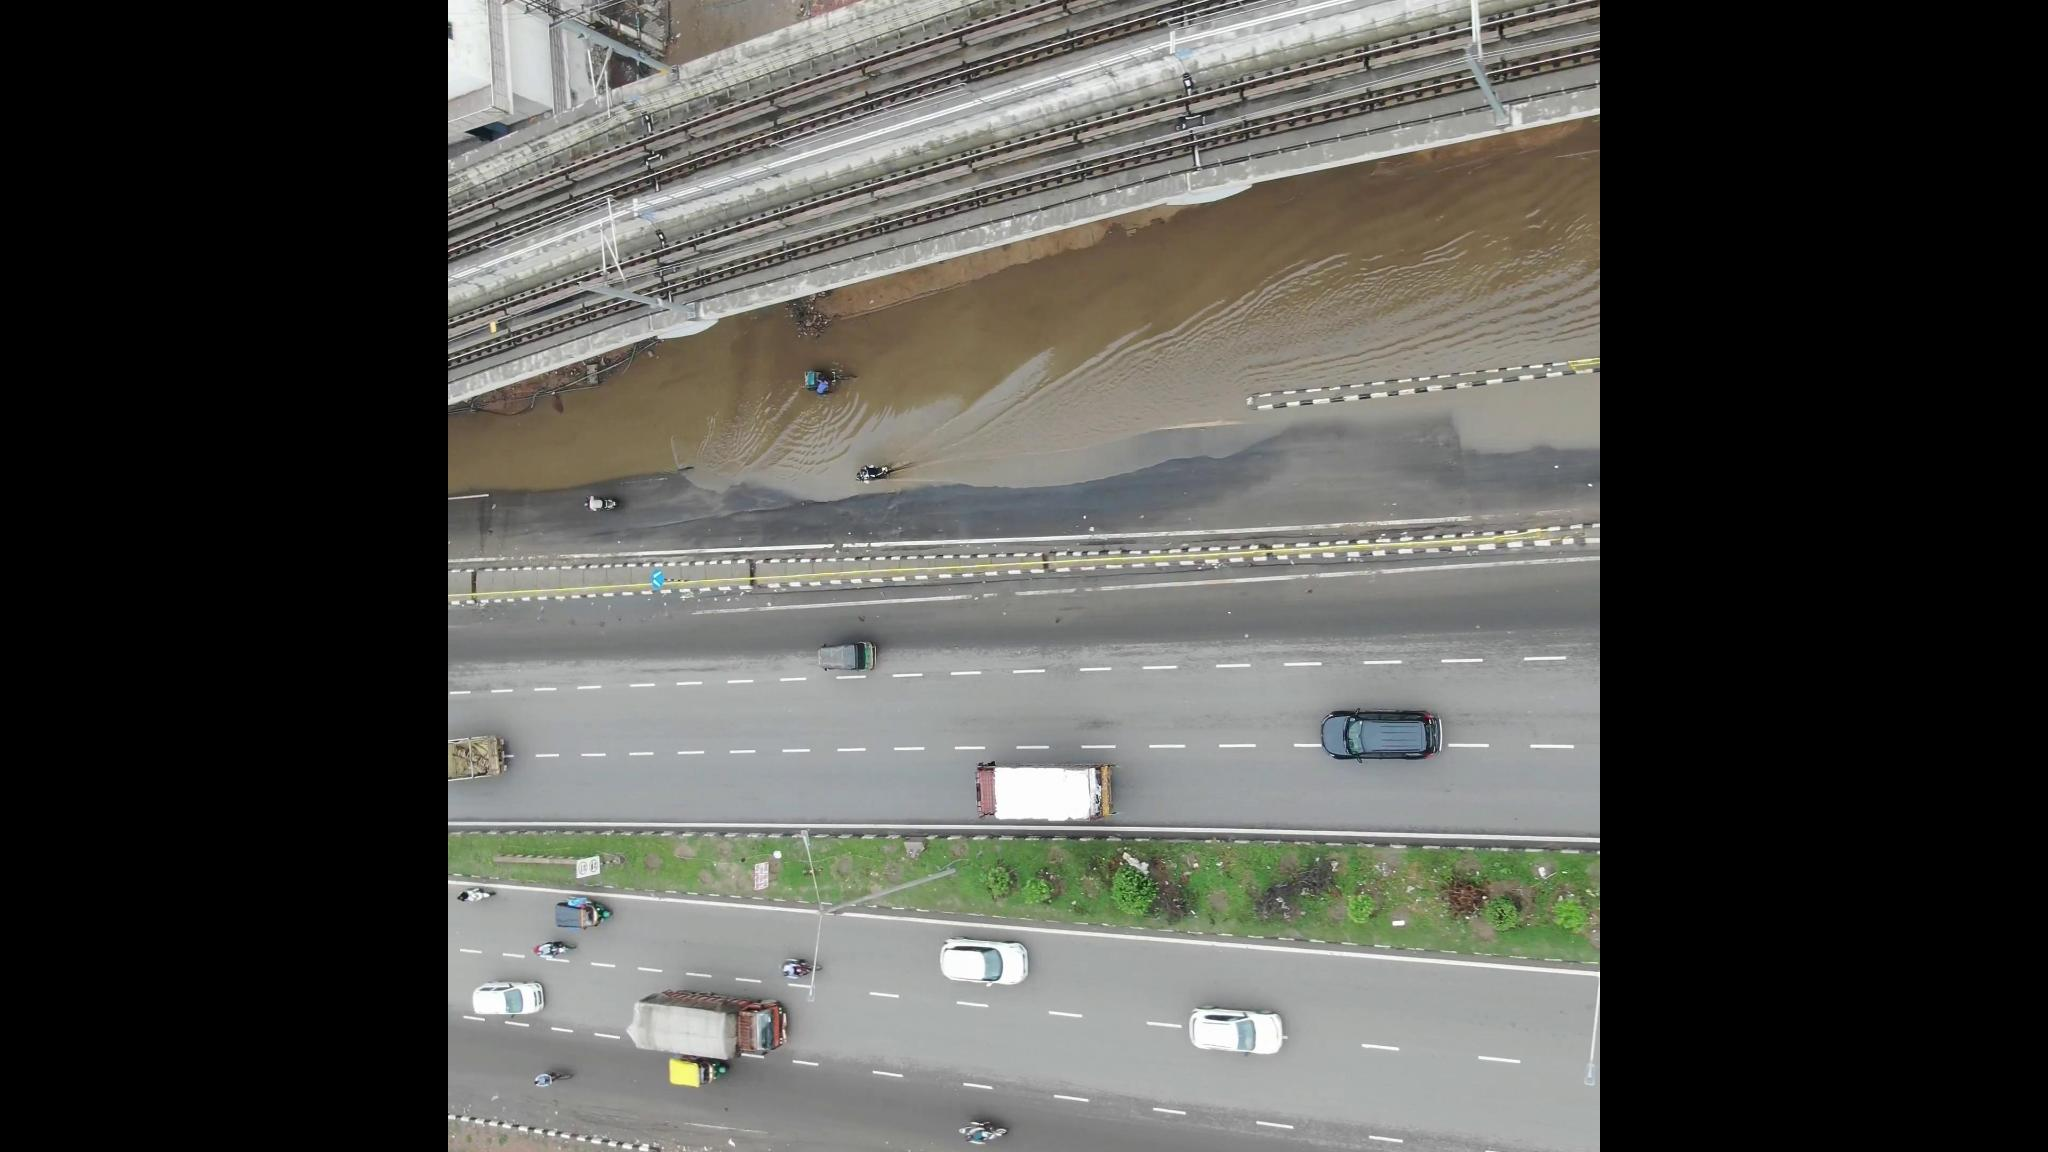Waterlogging: (1169, 118, 1594, 459), (715, 233, 1158, 475), (452, 314, 698, 482)
